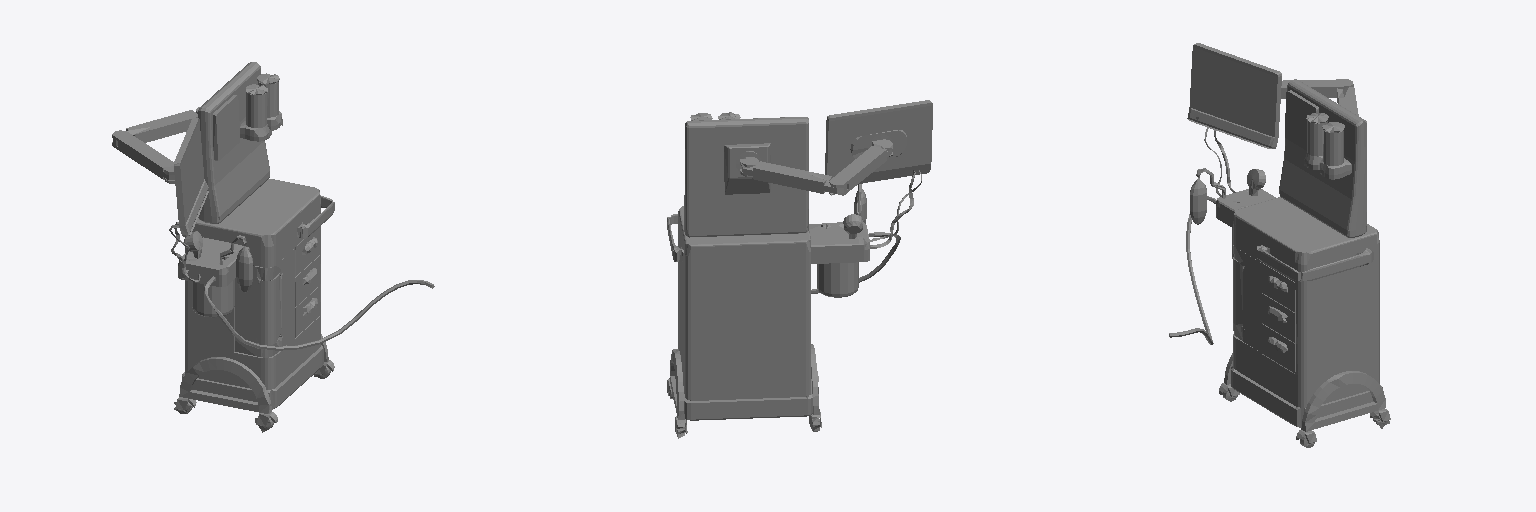
File: Anesthesia.obj
3 views of the same model, side by side, from view 1: azimuth 30°, elevation 25°; view 2: azimuth 150°, elevation 25°; view 3: azimuth 270°, elevation 25° (orthographic).
Visible parts, largest first — view 1: Anesthesia; view 2: Anesthesia; view 3: Anesthesia.
Boxes of the visible parts, x1,y1,x2,y2 form: Anesthesia: [112, 62, 434, 432]; Anesthesia: [667, 100, 932, 438]; Anesthesia: [1169, 43, 1390, 447].
Size of the model in its own units: 1.25 by 1.49 by 0.9704.